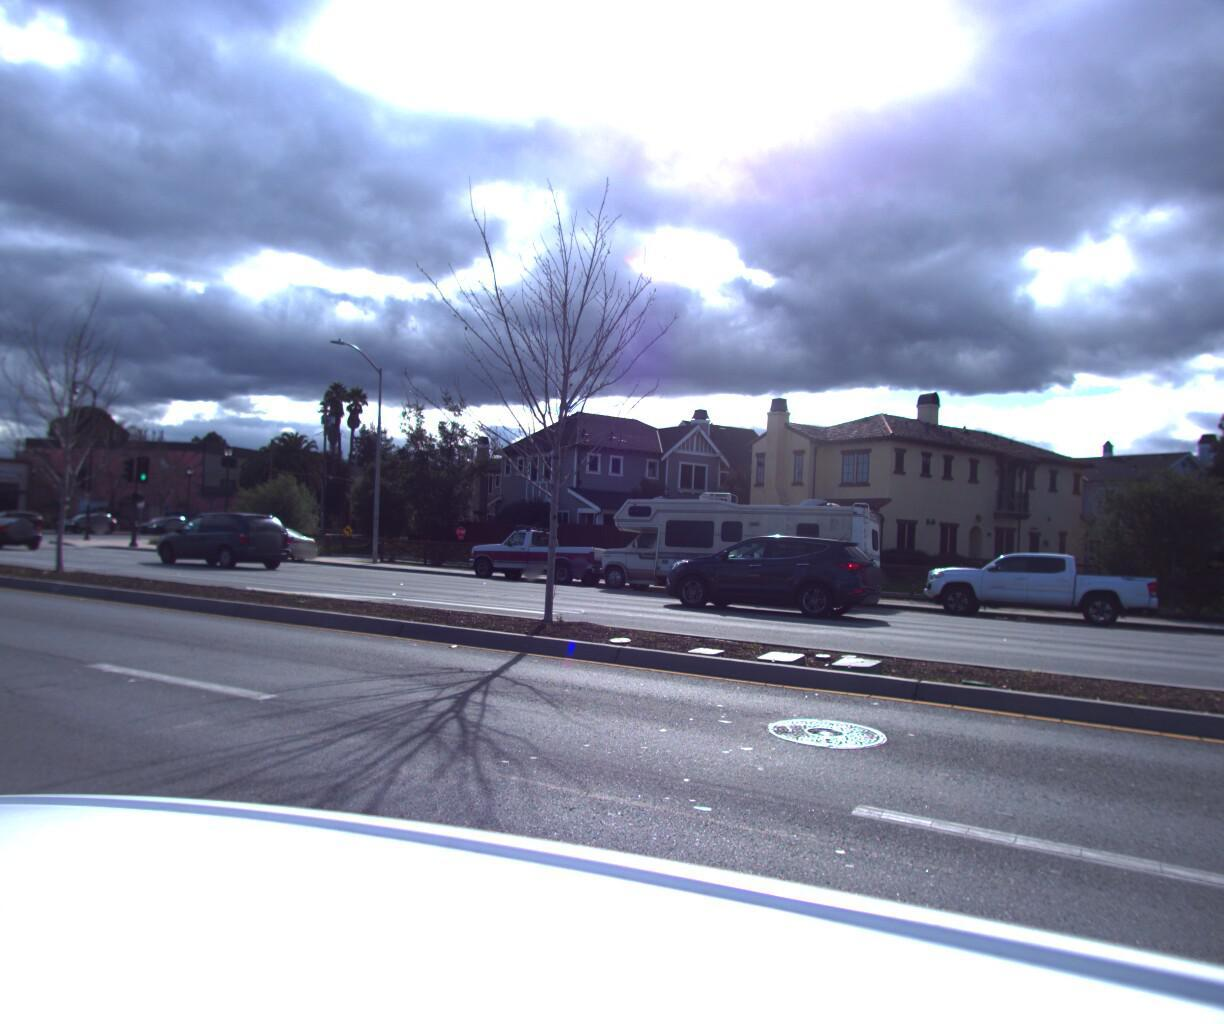car: (645, 517, 906, 620), (910, 536, 1162, 630), (460, 518, 629, 584), (136, 501, 297, 567), (196, 517, 325, 557), (0, 509, 50, 551)
other_vehicle: (592, 476, 891, 608)
